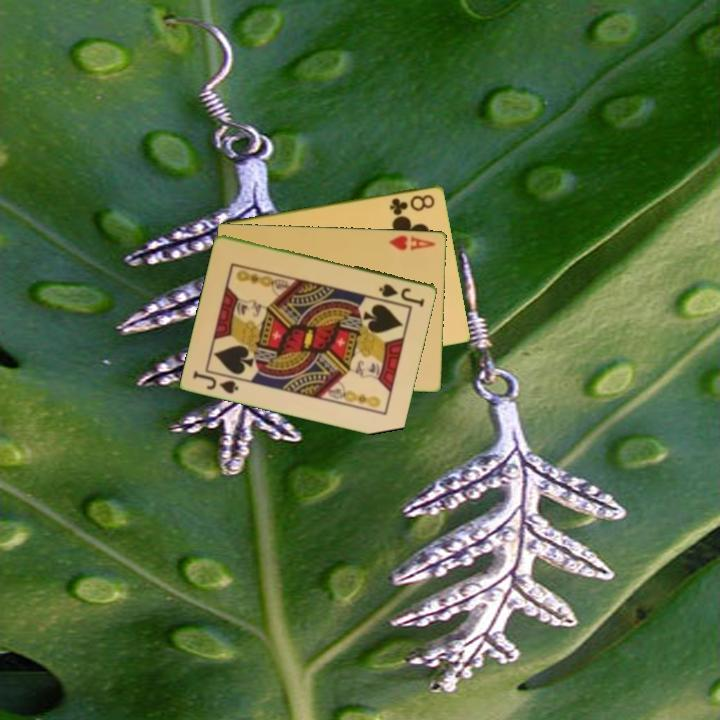8c: (386, 191, 438, 217)
Ah: (385, 232, 438, 253)
Js: (190, 367, 242, 396), (376, 280, 428, 308)
